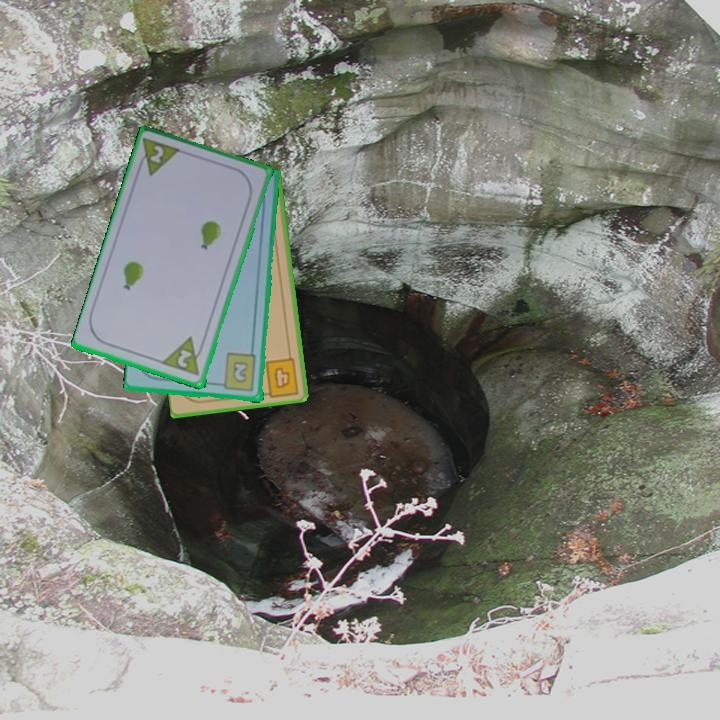2b: (215, 350, 259, 394)
2p: (133, 135, 185, 180), (174, 346, 195, 371)
4b: (259, 354, 302, 399)
